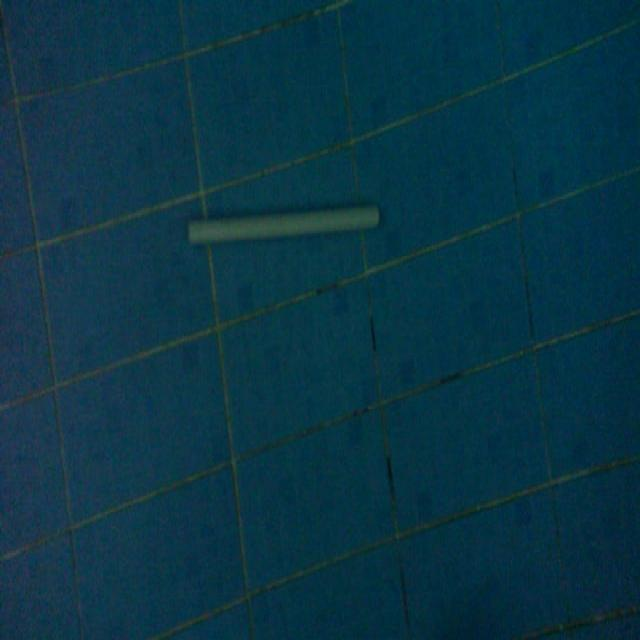Cube: (185, 197, 382, 249)
